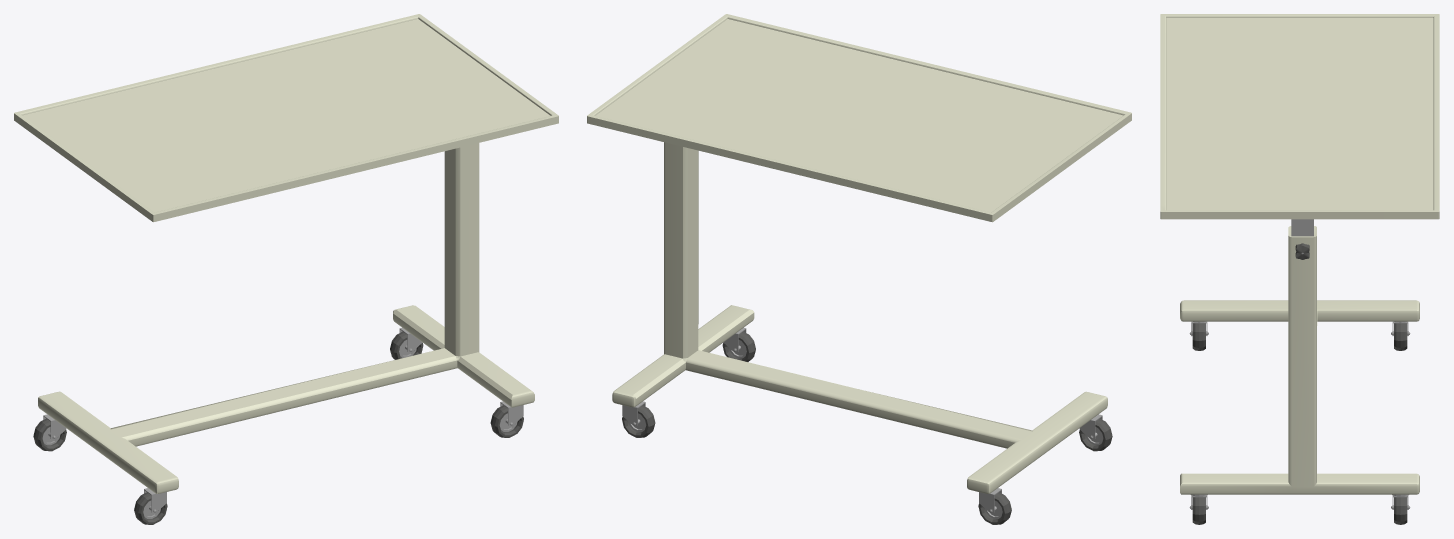
Rendered from standTray_v1.fbx.
The picture shows the model from 3 angles, left to right: view 1: azimuth 30°, elevation 25°; view 2: azimuth 150°, elevation 25°; view 3: azimuth 270°, elevation 25°; orthographic projection.
Parts seen in each view (by area): view 1: hspTray_geo; view 2: hspTray_geo; view 3: hspTray_geo.
Part boxes in pixels (x1,y1,x2,y2): hspTray_geo: [14, 14, 558, 524]; hspTray_geo: [587, 14, 1131, 524]; hspTray_geo: [1160, 14, 1439, 524].
Size of the model in its own units: 235 by 181 by 140.
